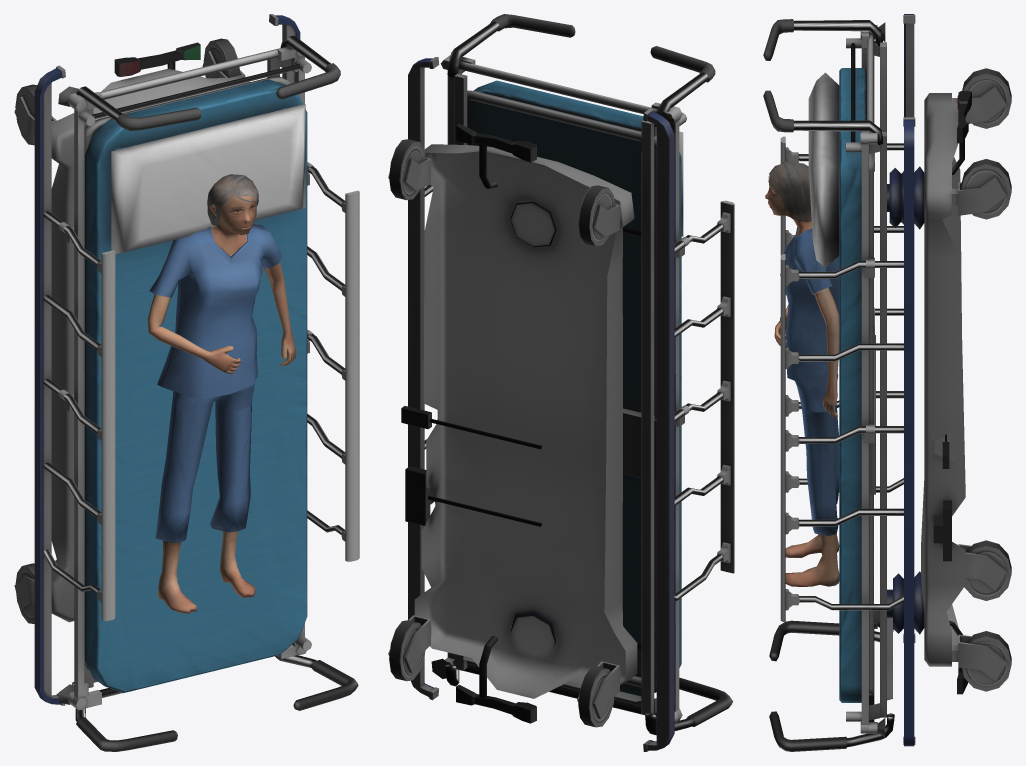
File: TrolleyBedPatient.obj
3 views of the same model, side by side, from view 1: azimuth 30°, elevation 25°; view 2: azimuth 150°, elevation 25°; view 3: azimuth 270°, elevation 25° (orthographic).
Parts seen in each view (by area): view 1: TrolleyBedPatient; view 2: TrolleyBedPatient; view 3: TrolleyBedPatient.
Boxes of the visible parts, x1,y1,x2,y2 form: TrolleyBedPatient: (14, 14, 359, 751); TrolleyBedPatient: (388, 14, 734, 751); TrolleyBedPatient: (763, 14, 1011, 751).
Bounding box in the file's own units: 1.02 × 2.38 × 0.8544.
2 materials, 2 textured.
